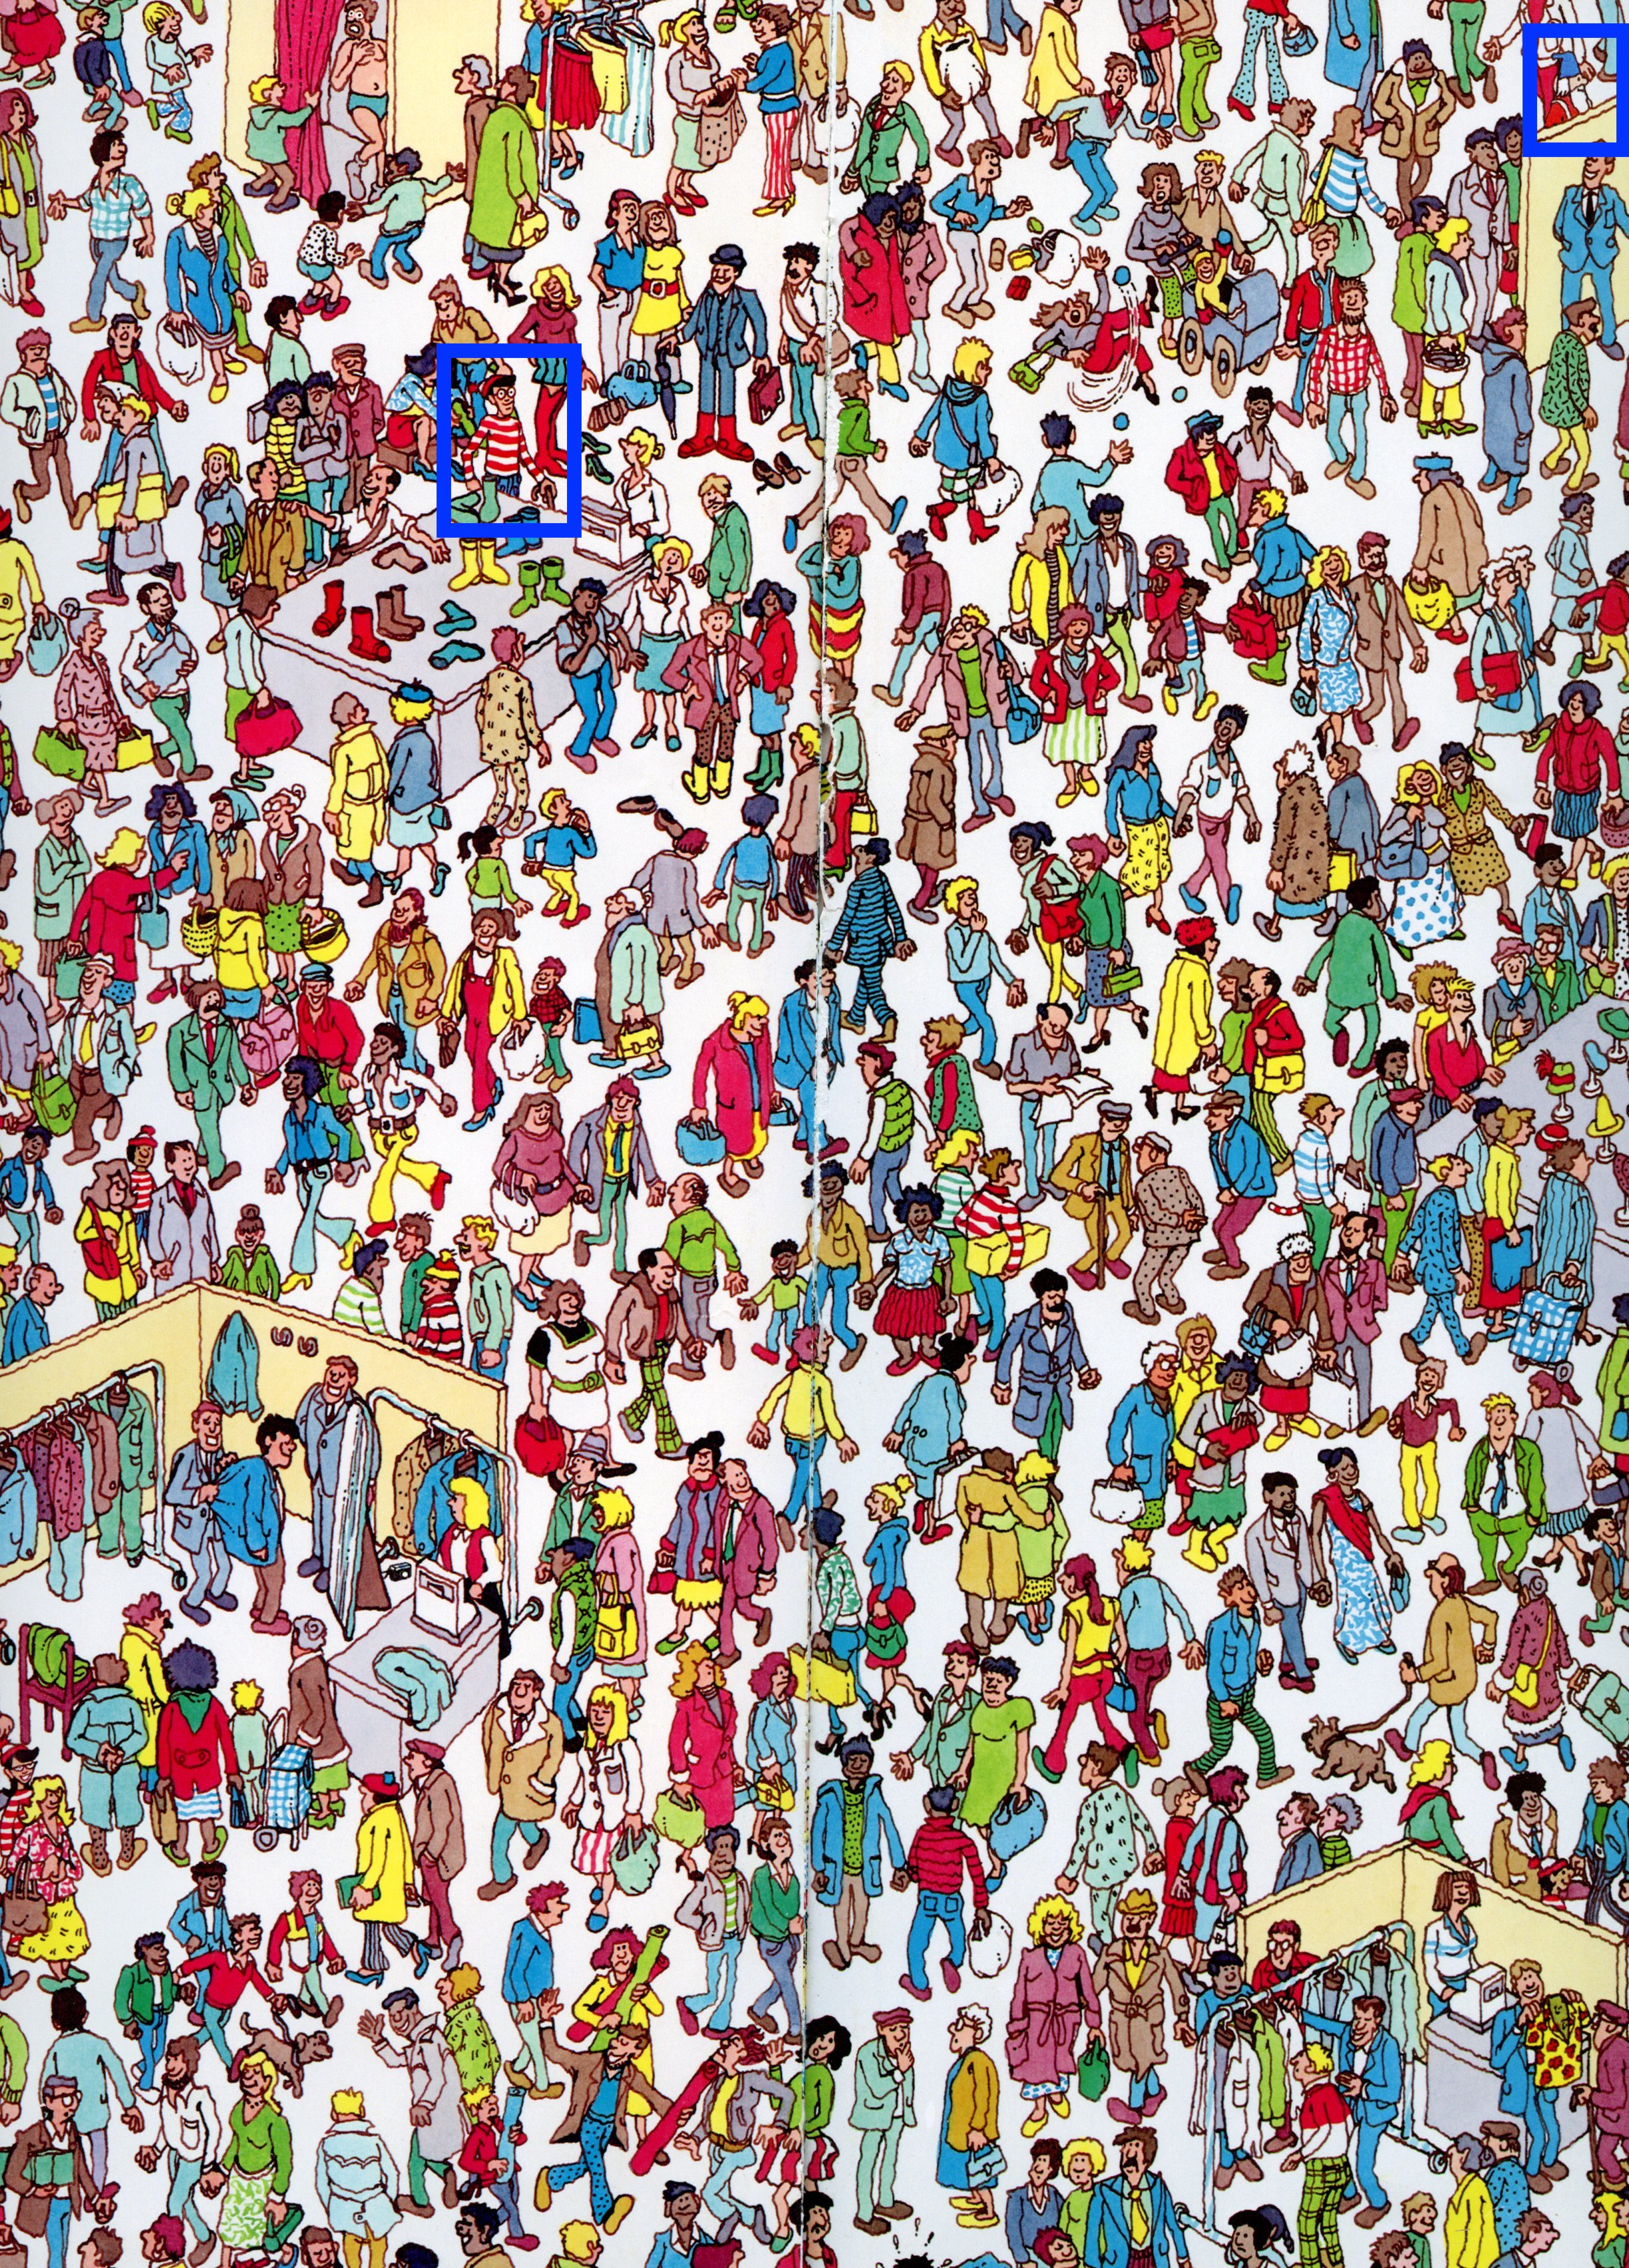waldo: (442, 343, 572, 544)
white beard: (1518, 19, 1629, 167)
